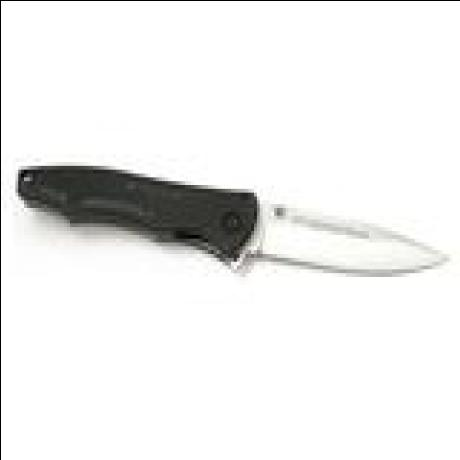weapon: (176, 185, 449, 280)
